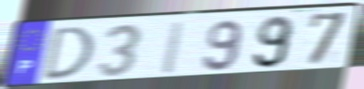3: (98, 22, 146, 79)
7: (307, 12, 349, 68)
9: (250, 13, 296, 71), (201, 17, 245, 72)
D: (40, 25, 96, 83)
I: (157, 20, 188, 76)
